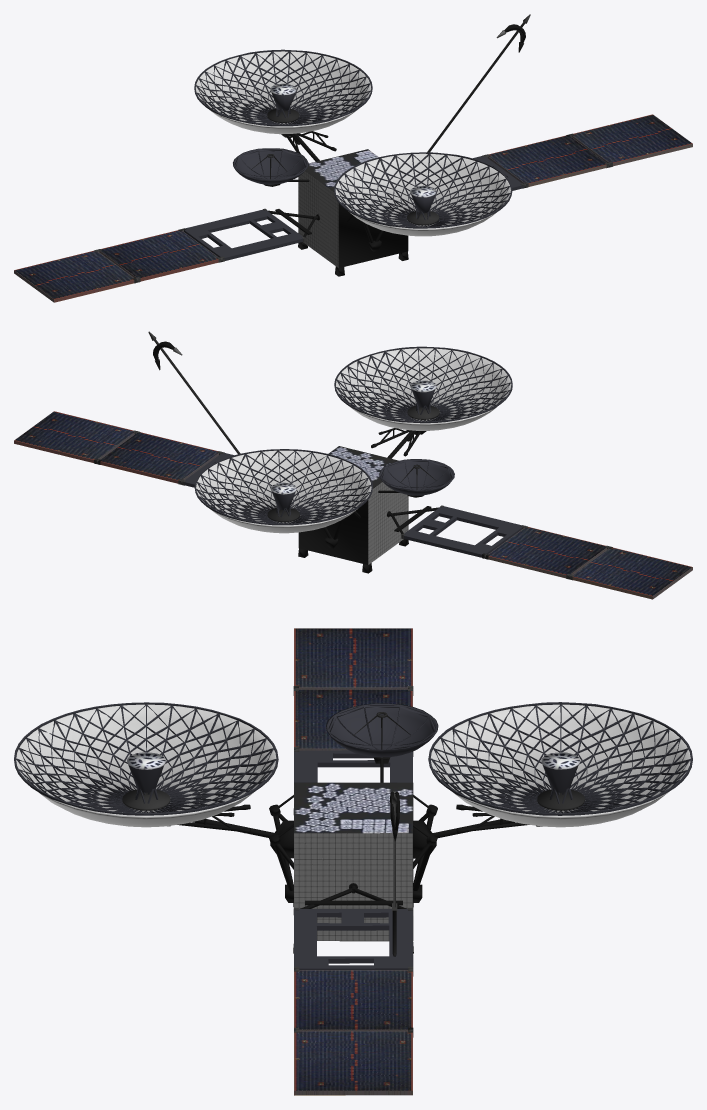
File: ex_tdrs.glb
3 renders of one model, top to bottom at view 1: azimuth 30°, elevation 25°; view 2: azimuth 150°, elevation 25°; view 3: azimuth 270°, elevation 25°, orthographic. The views are drawn at different scales.
Visible parts, largest first — view 1: tex_01, shiny_panel, tex_02, black_krinkle, foil_silver; view 2: tex_01, shiny_panel, tex_02, black_krinkle, foil_silver; view 3: tex_01, shiny_panel, tex_02, black_krinkle, foil_silver.
Part boxes in pixels (bbox=[...]): tex_01: bbox=[89, 49, 692, 294]; shiny_panel: bbox=[14, 114, 692, 302]; tex_02: bbox=[195, 51, 510, 236]; black_krinkle: bbox=[263, 24, 525, 276]; foil_silver: bbox=[94, 14, 612, 283]; tex_01: bbox=[101, 346, 522, 557]; shiny_panel: bbox=[14, 411, 692, 599]; tex_02: bbox=[196, 348, 511, 533]; black_krinkle: bbox=[153, 341, 438, 573]; foil_silver: bbox=[94, 331, 612, 580]; tex_01: bbox=[14, 702, 692, 1095]; shiny_panel: bbox=[294, 628, 412, 1095]; tex_02: bbox=[16, 704, 690, 827]; black_krinkle: bbox=[167, 757, 542, 953]; foil_silver: bbox=[122, 686, 584, 1037].
Size of the model in its own units: 21.12 by 5.76 by 13.11.
Materials: 5 (4 with a texture image).
